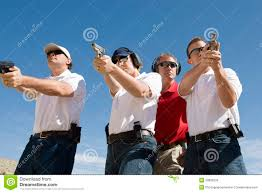Gun: (87, 38, 104, 64)
